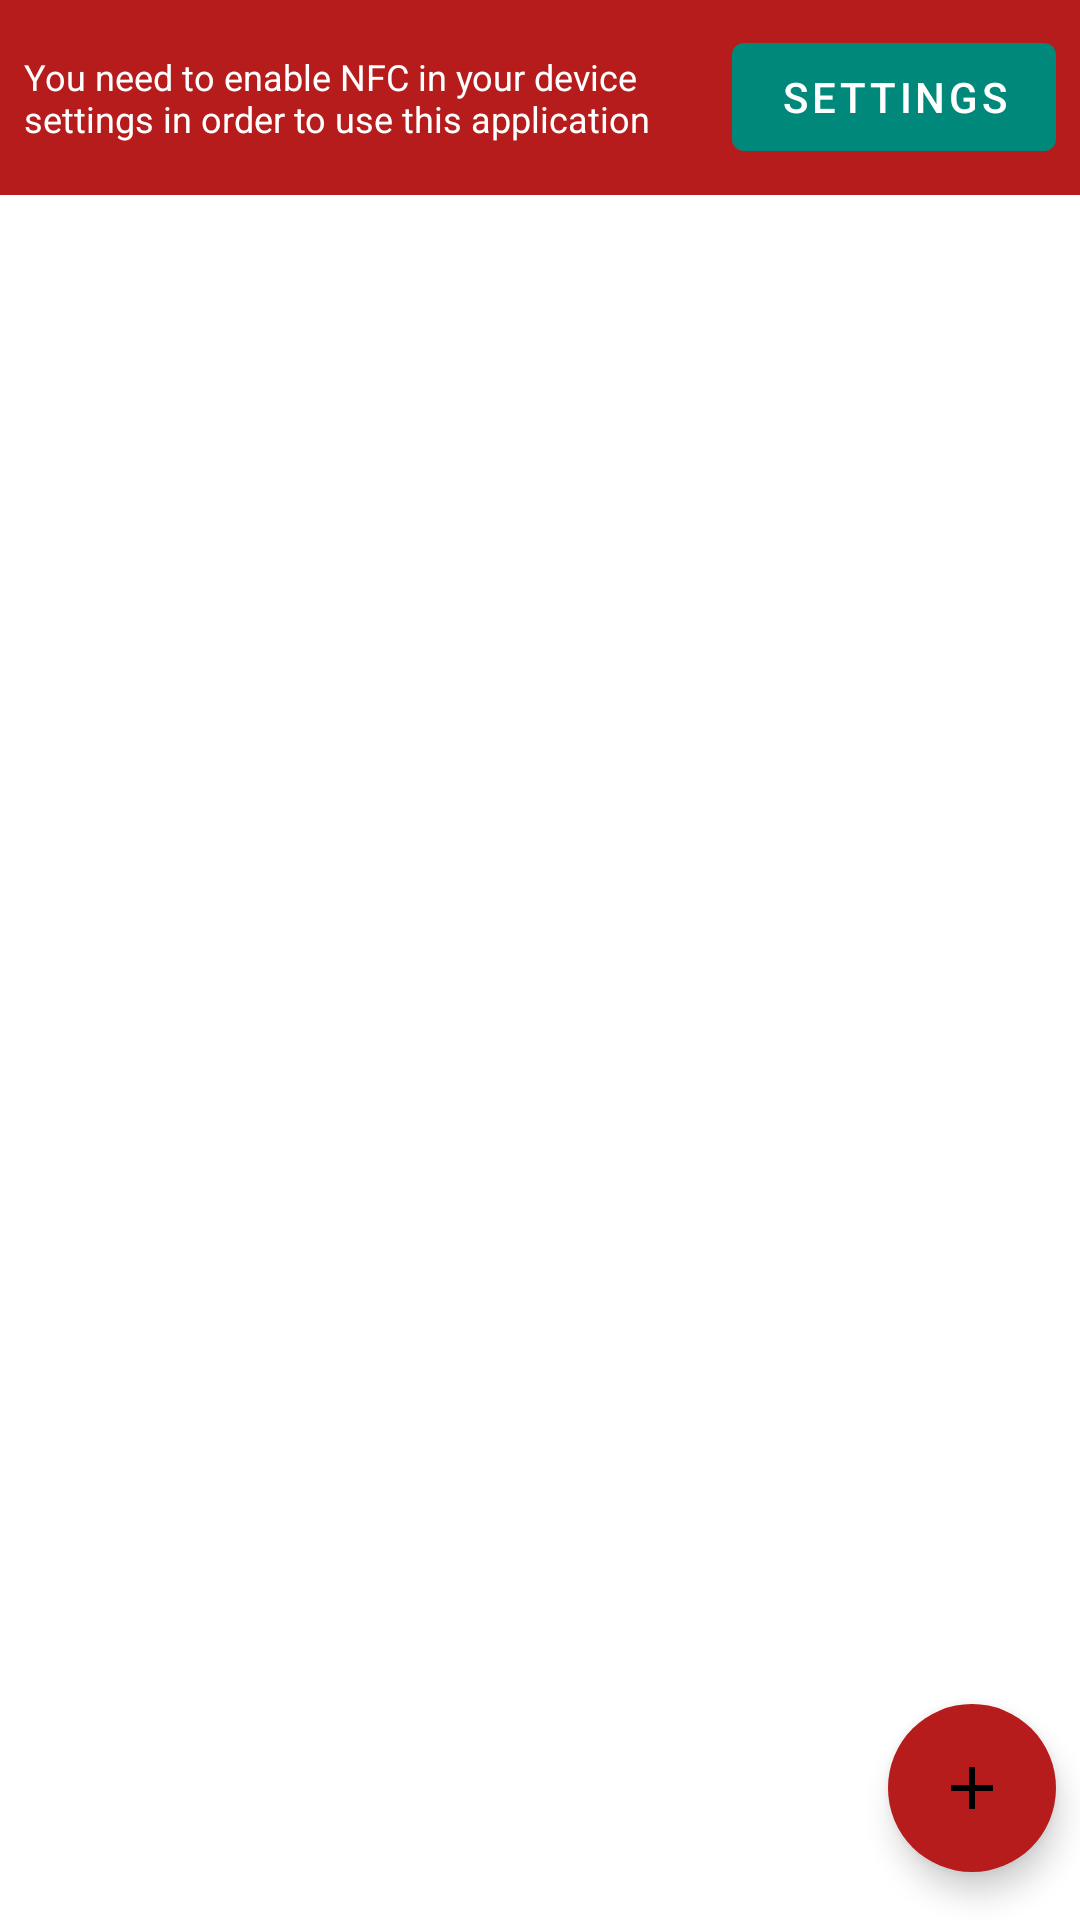

Where icons sit on this 1080 × 1920 app screen, as (x1, y1, x2, y2):
plus: (888, 1704, 1056, 1872)
